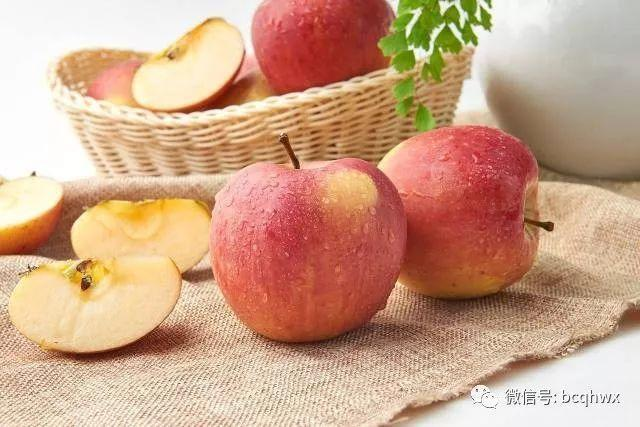apple: (208, 154, 407, 346), (373, 121, 542, 302), (6, 252, 187, 354), (250, 1, 394, 94), (68, 195, 211, 276), (129, 18, 244, 110)
